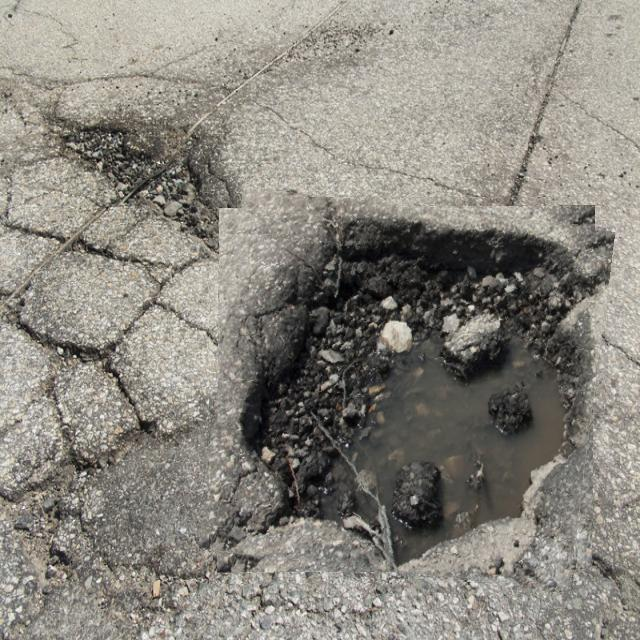Pothole: (209, 197, 606, 584)
